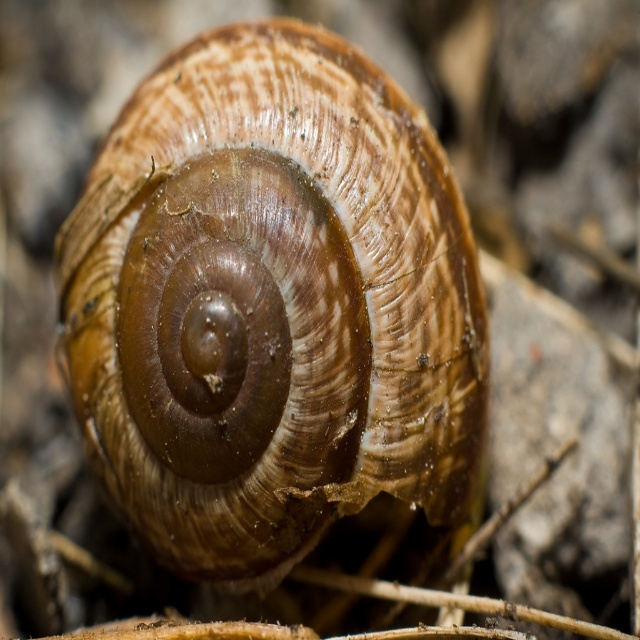Snail: (51, 15, 491, 600)
